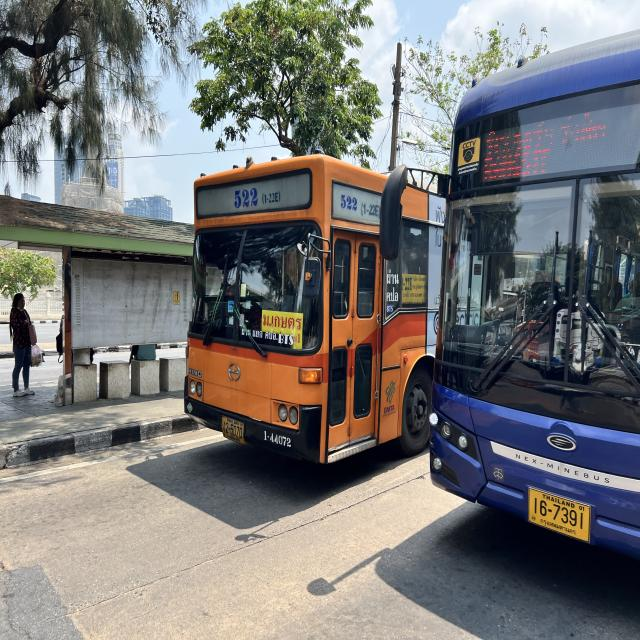BMTA-bus: (183, 156, 445, 468)
Bus-Line-Number: (232, 184, 282, 209)
Destination-Sign-Extra-Bus-Expressway: (262, 310, 302, 349)
Destination-Sign-Normal: (480, 108, 611, 184)
TSB-Bus: (428, 29, 640, 564)
